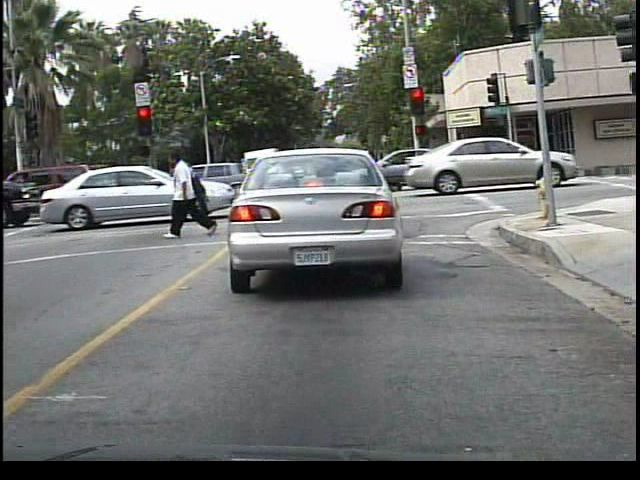person: (167, 151, 219, 242)
